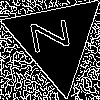Z: (30, 15, 79, 54)
